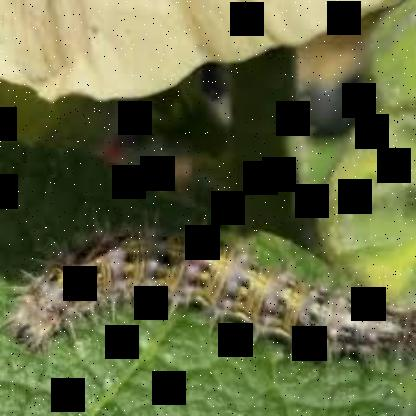oruga: (12, 211, 416, 370)
